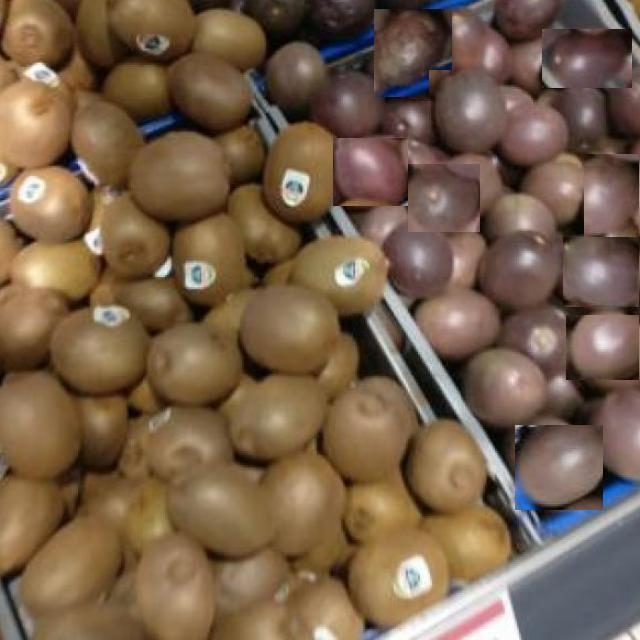Plum: (514, 425, 603, 510), (373, 9, 452, 97), (462, 350, 557, 418), (497, 95, 577, 172), (430, 71, 506, 151), (482, 236, 563, 310), (558, 236, 639, 307), (541, 29, 632, 88), (334, 137, 408, 206), (583, 154, 640, 242), (408, 164, 480, 232), (566, 314, 640, 380)
